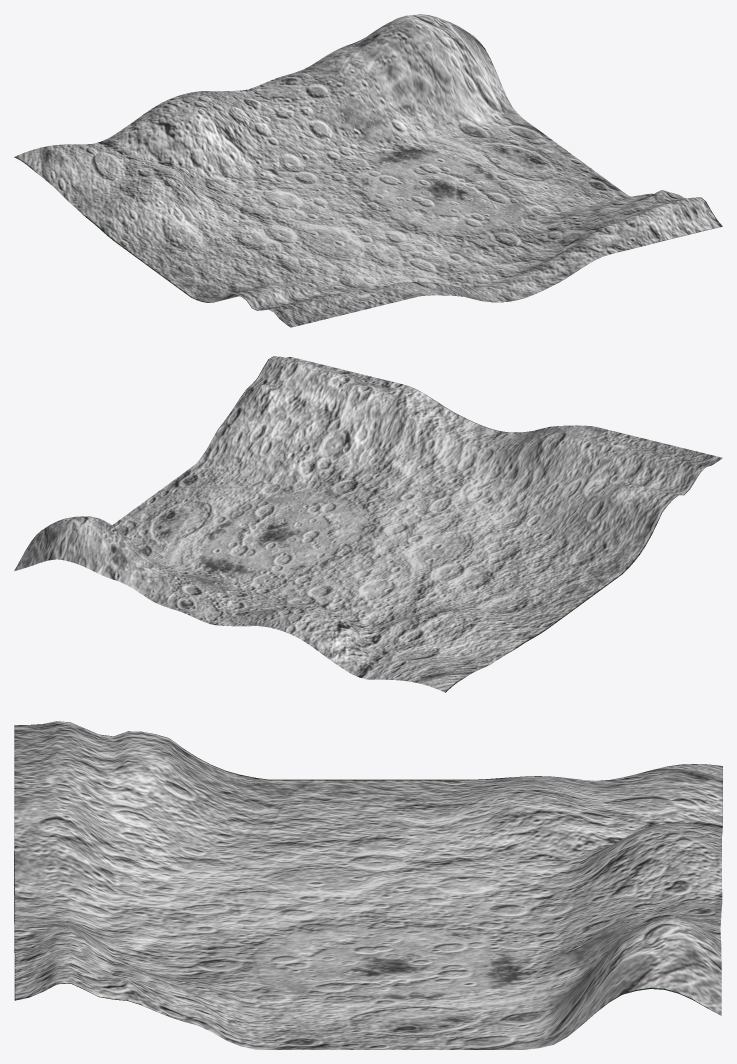
File: terrain.obj
3 views of the same model, one above another, from view 1: azimuth 30°, elevation 25°; view 2: azimuth 150°, elevation 25°; view 3: azimuth 270°, elevation 25° (orthographic). The views are drawn at different scales.
Visible parts, largest first — view 1: terrain; view 2: terrain; view 3: terrain.
Part boxes in pixels (left/top/right/bottom): terrain: left=14, top=14, right=722, bottom=327; terrain: left=14, top=356, right=722, bottom=692; terrain: left=14, top=721, right=722, bottom=1049.
Size of the model in its own units: 404 by 65.76 by 448.
1 material, 1 textured.
